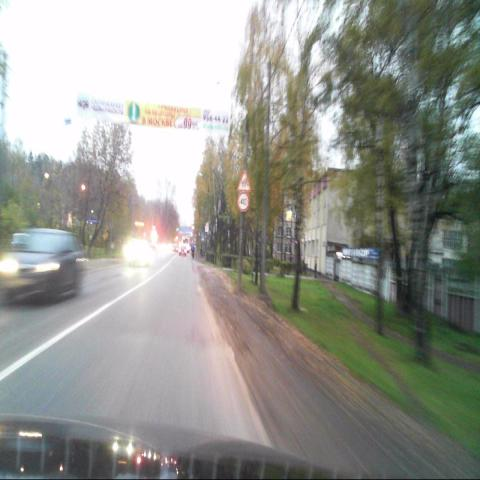1_23: (237, 170, 251, 193)
